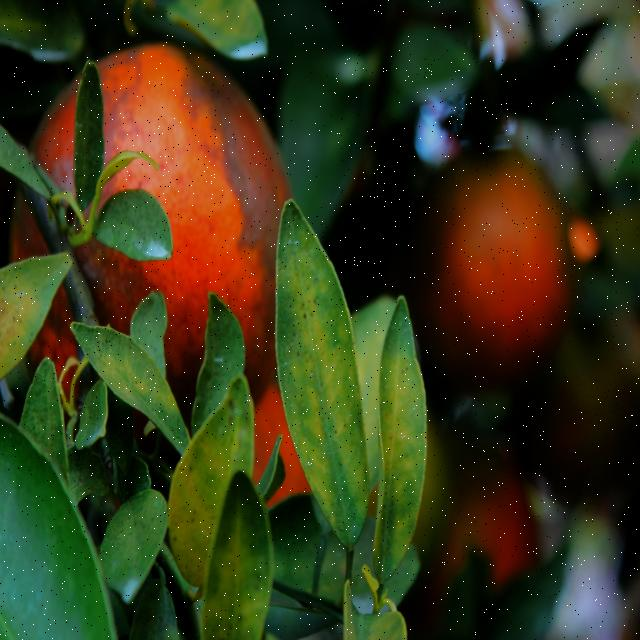blackspot: (276, 222, 366, 496), (158, 392, 247, 584), (0, 254, 44, 372), (207, 567, 258, 640)
